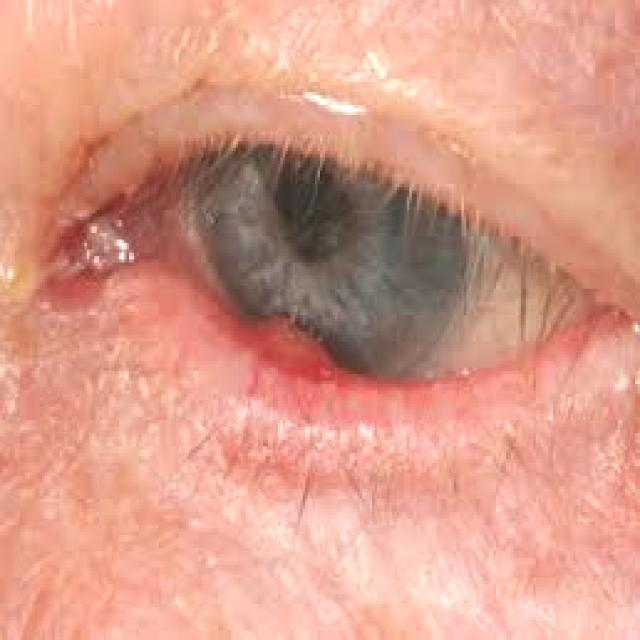Rosacea: (52, 211, 621, 410)
